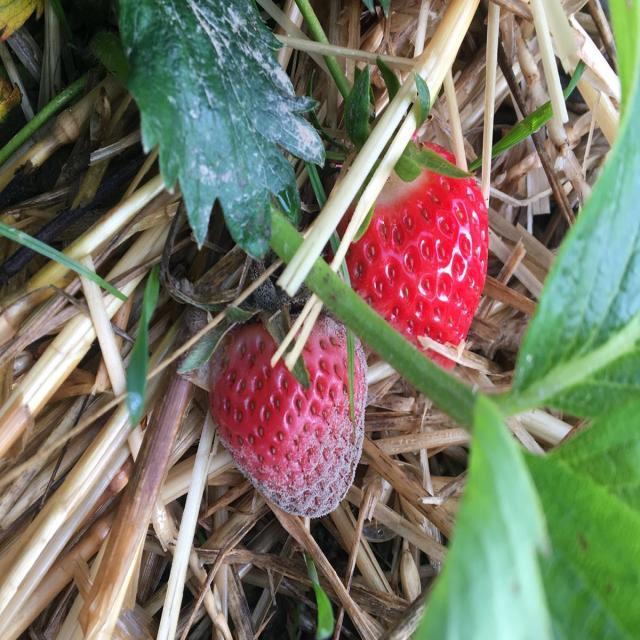Fruta sana: (346, 140, 498, 374)
Moho gris: (209, 311, 367, 528)
